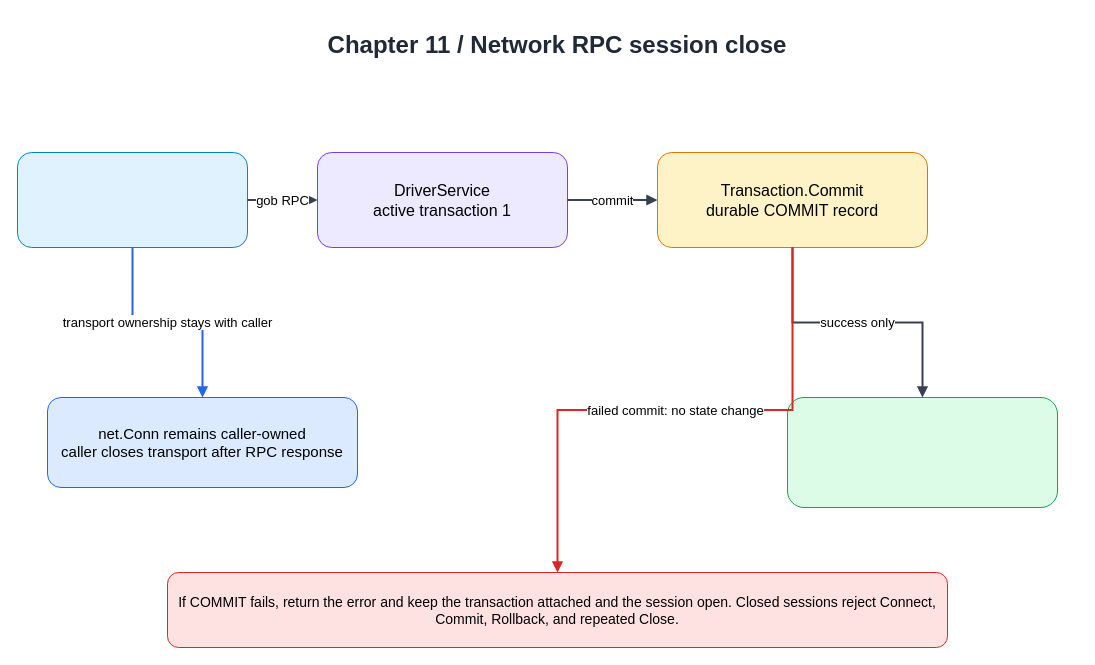
The diagram is 1095 pixels wide and 665 high, and some of its shapes have lost their labels. The shapes that lost their labels are listed below. From the top down, each one's centre as x and y in pixels, then its label:
point (132, 200): RPC client SimpleDB.Close
point (922, 452): CloseResponse session closed no successor START
